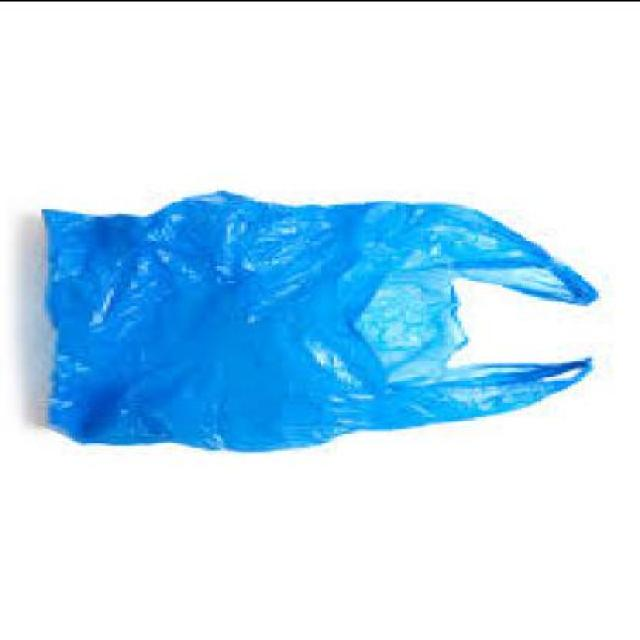plastic: (44, 186, 602, 446)
